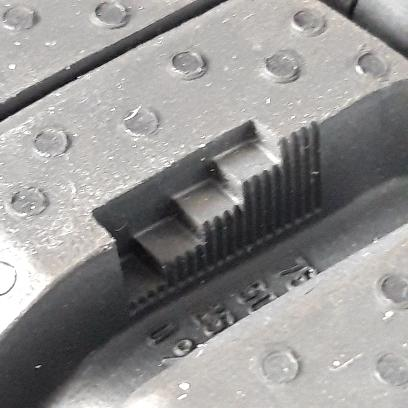temoin:100: (89, 114, 331, 322)
